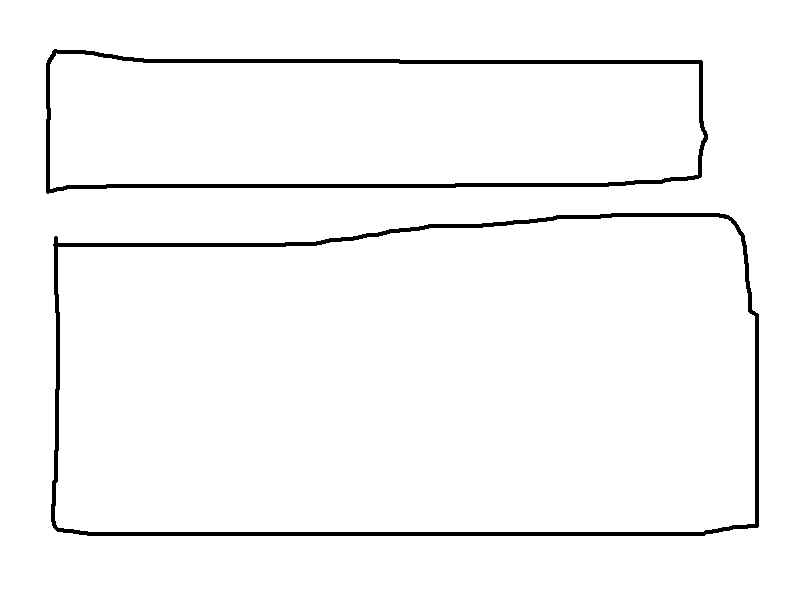rect: (48, 209, 762, 548), (42, 40, 714, 193)
